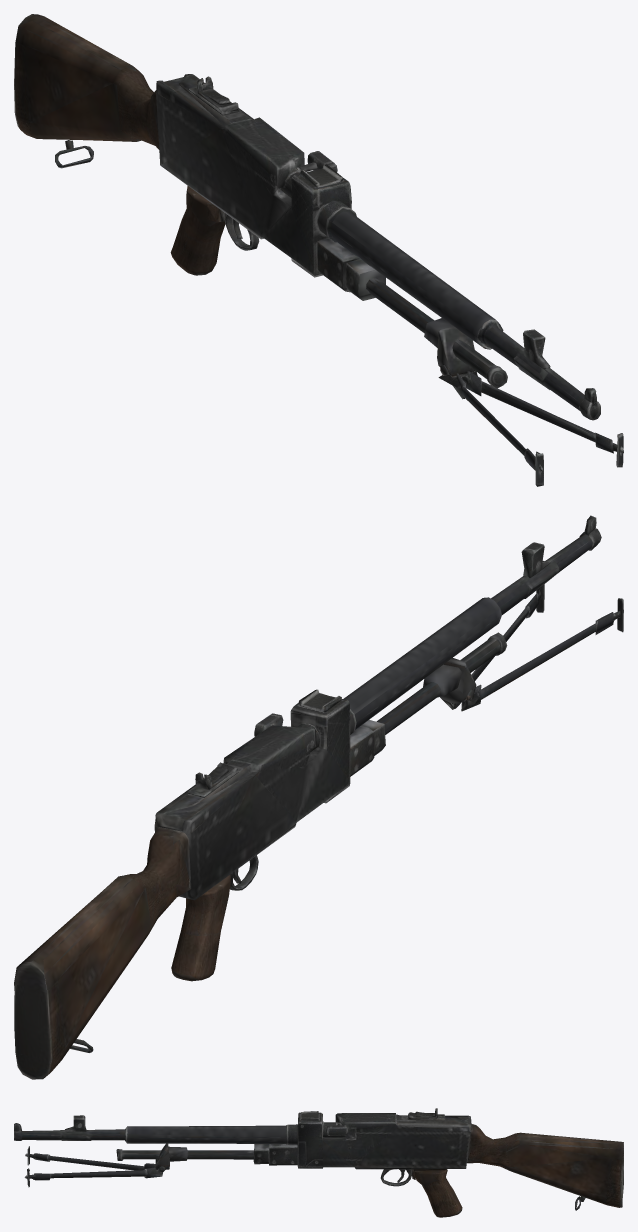
3 views of the same model, one above another, from view 1: azimuth 30°, elevation 25°; view 2: azimuth 150°, elevation 25°; view 3: azimuth 270°, elevation 25° (orthographic). The views are drawn at different scales.
Visible parts, largest first — view 1: m1919a6; view 2: m1919a6; view 3: m1919a6.
Boxes of the visible parts, left/top/right/bottom form: m1919a6: left=14, top=14, right=623, bottom=486; m1919a6: left=14, top=515, right=623, bottom=1079; m1919a6: left=14, top=1108, right=623, bottom=1217.
Bounding box in the file's own units: 11.99 × 26.11 × 135.
Materials: 1 (1 with a texture image).
